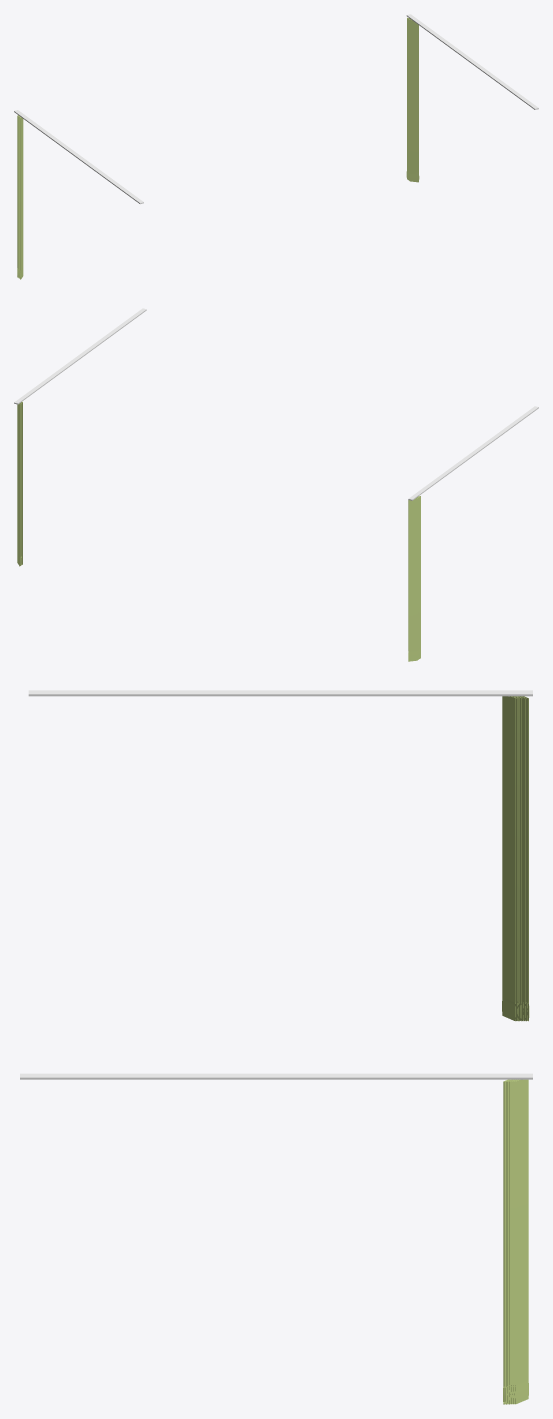
The model's file is curtain .fbx.
The picture shows the model from 3 angles, top to bottom: view 1: azimuth 30°, elevation 25°; view 2: azimuth 150°, elevation 25°; view 3: azimuth 270°, elevation 25°; orthographic projection. The views are drawn at different scales.
Parts seen in each view (by area): view 1: Object606522, 3, 4, Object606521, Object606520, Object606523; view 2: Object606521, Object606523, 3, 4; view 3: Object606523, Object606521, Object606520, 3, 4.
Boxes of the visible parts, x1,y1,x2,y2 form: Object606522: [409, 20, 419, 182]; 3: [406, 14, 538, 109]; 4: [14, 110, 143, 204]; Object606521: [17, 115, 20, 279]; Object606520: [20, 117, 23, 279]; Object606523: [406, 17, 411, 180]; Object606521: [408, 496, 420, 661]; Object606523: [17, 402, 22, 566]; 3: [14, 308, 146, 404]; 4: [408, 406, 538, 500]; Object606523: [504, 1079, 528, 1404]; Object606521: [511, 696, 529, 1021]; Object606520: [502, 696, 515, 1021]; 3: [20, 1073, 532, 1079]; 4: [28, 690, 532, 696].
Size of the model in its own units: 4643 by 1814 by 2587.
